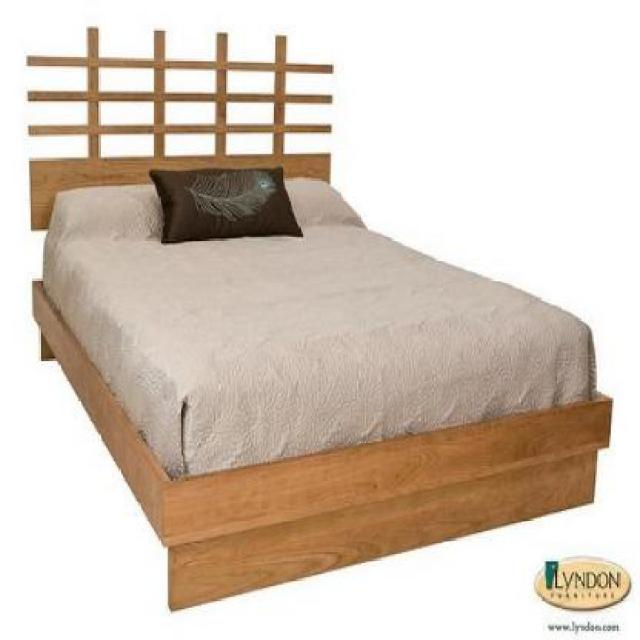Bed: (17, 28, 619, 615)
